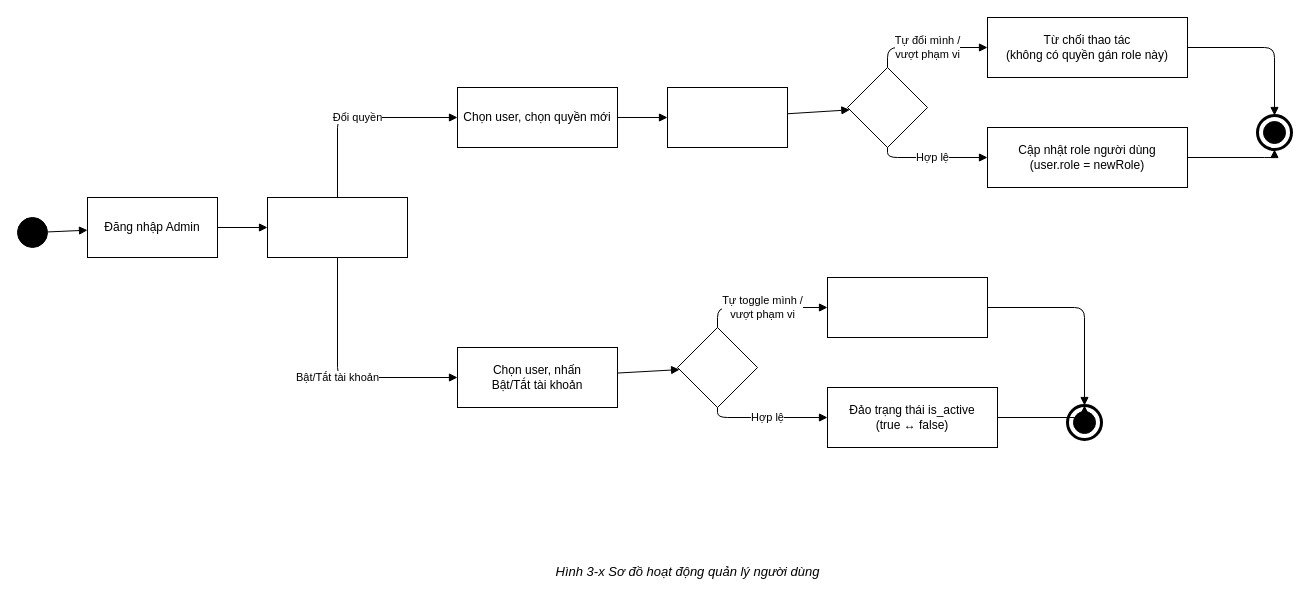
Some shapes in this 1310 by 605 pixel diagram are drawn without their labels. Each missing label, with the centre of its shape:
"Nhấn Lưu" goes at point (727, 117).
"Từ chối thao tác (không có quyền)" goes at point (907, 307).
"Vào trang Người dùng" goes at point (337, 227).
